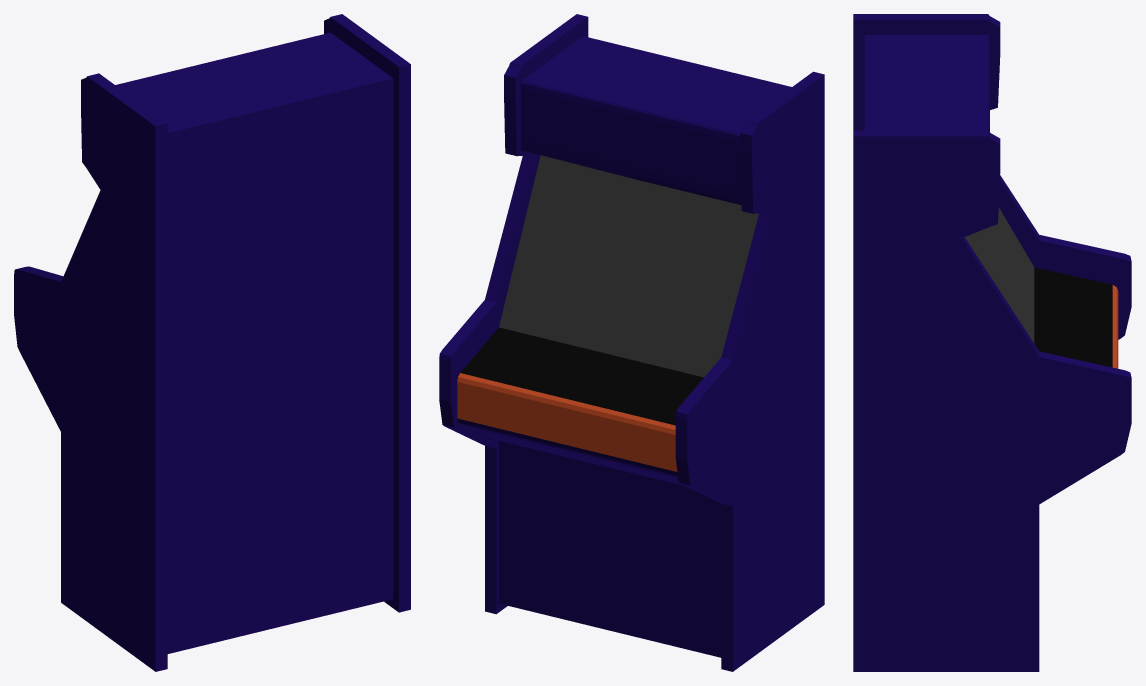
The model's file is Fliperama.fbx.
The picture shows the model from 3 angles, left to right: view 1: azimuth 30°, elevation 25°; view 2: azimuth 150°, elevation 25°; view 3: azimuth 270°, elevation 25°; orthographic projection. The views are drawn at different scales.
Visible parts, largest first — view 1: Fliperamana; view 2: Fliperamana; view 3: Fliperamana.
Boxes of the visible parts, x1,y1,x2,y2 form: Fliperamana: (14, 14, 410, 671); Fliperamana: (439, 14, 824, 671); Fliperamana: (853, 14, 1131, 671).
Size of the model in its own units: 203 by 415 by 195.
